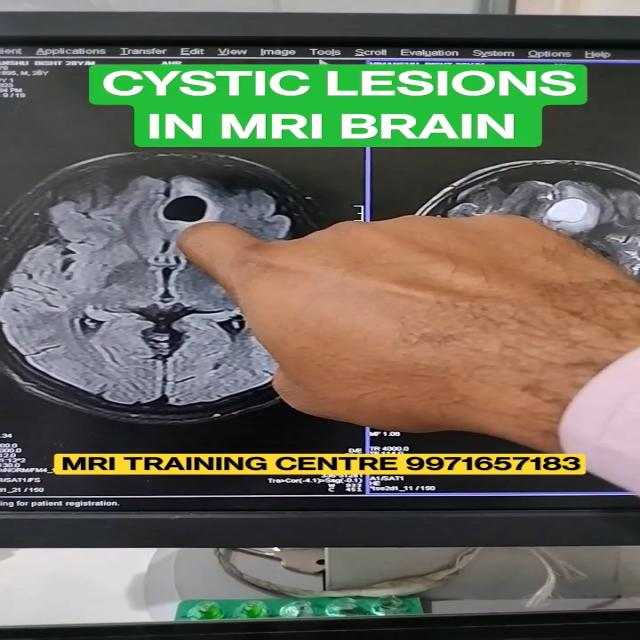tumor: (128, 187, 244, 235)
